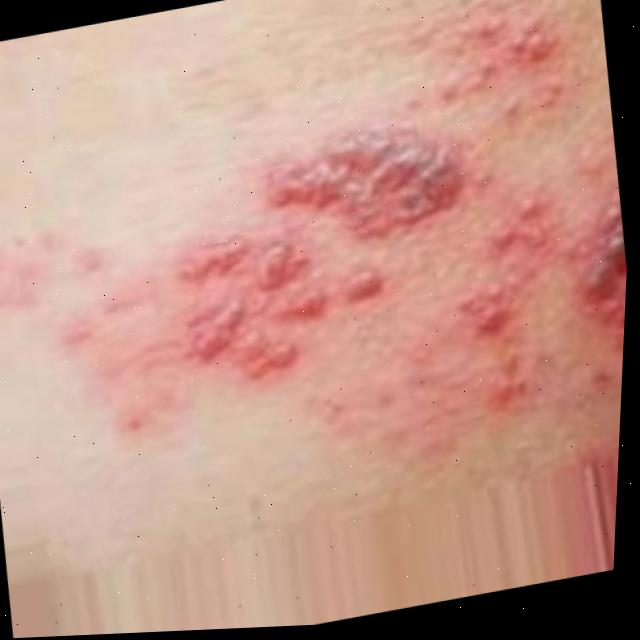Shingles: (0, 0, 639, 520)
